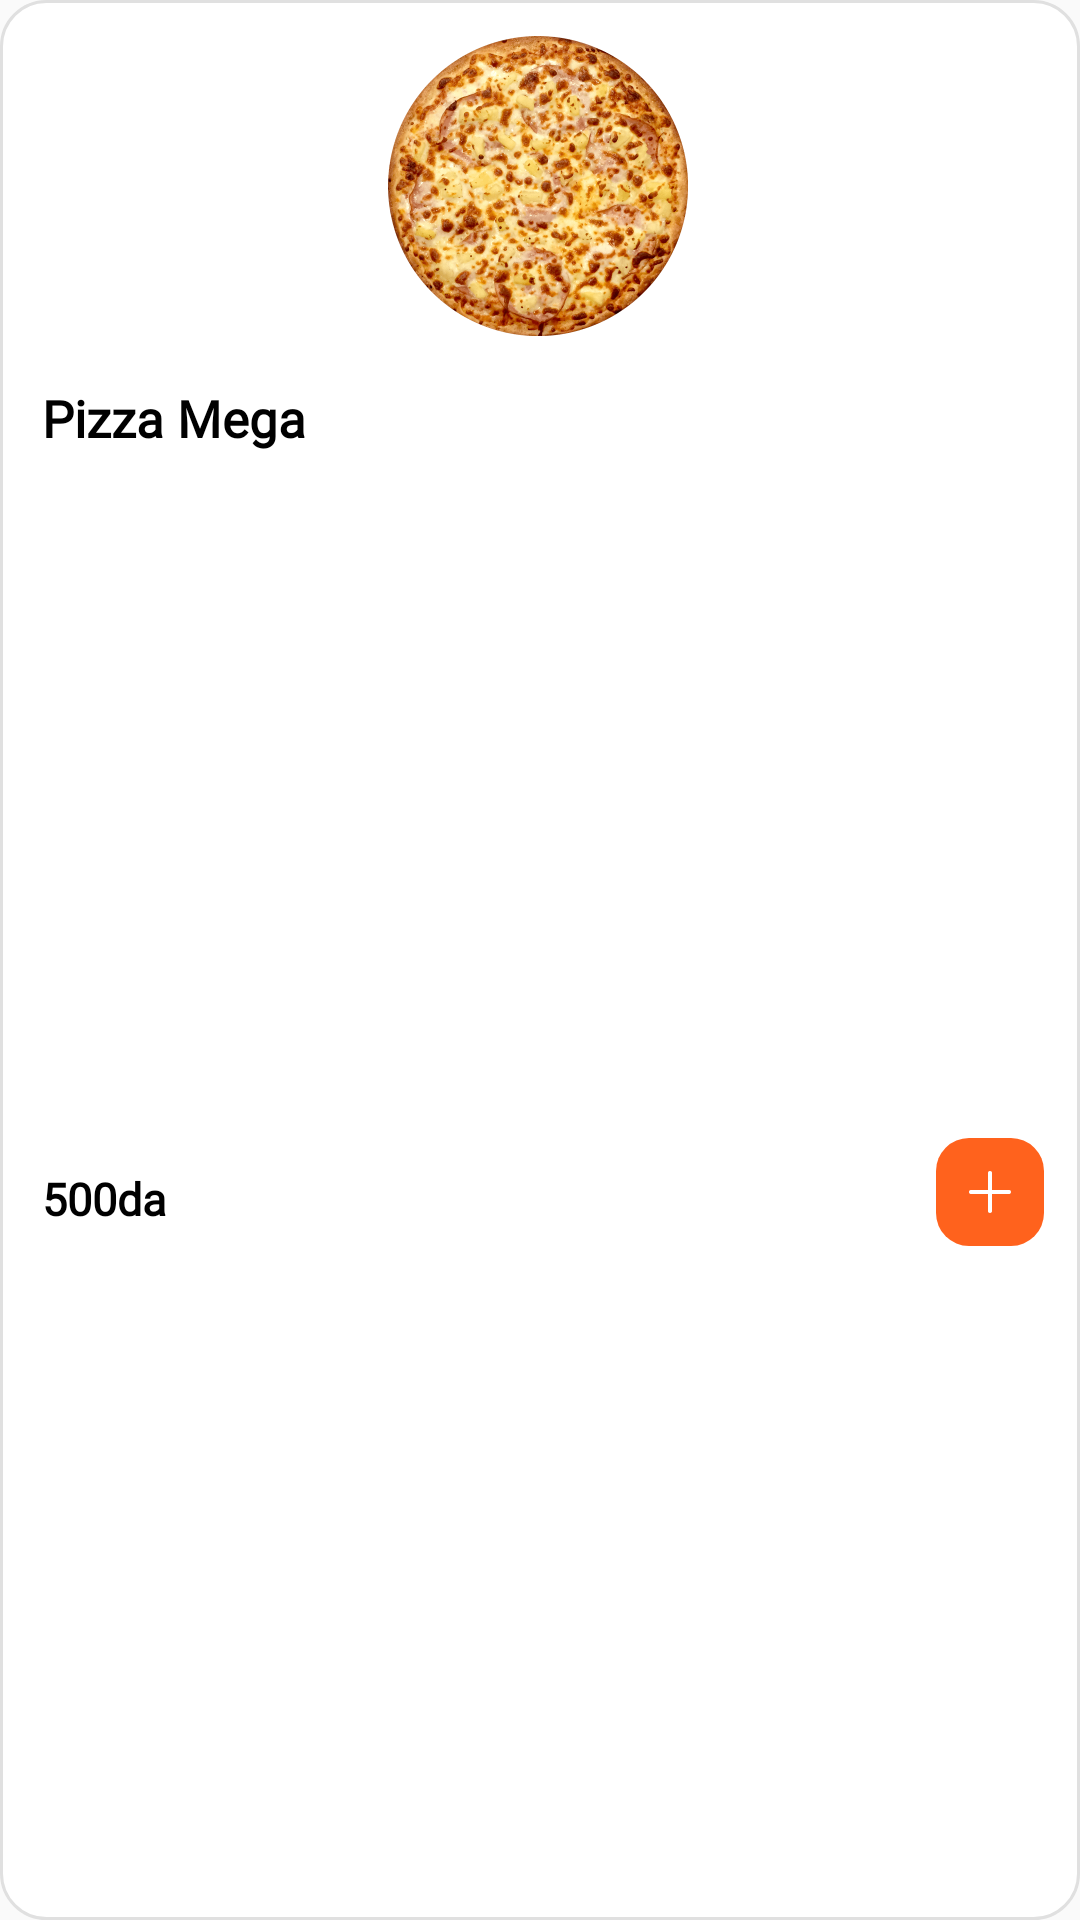

Point at icon controls on the screen. Image size 1080w x 1920h, points as [x,y].
add: [990,1192]
